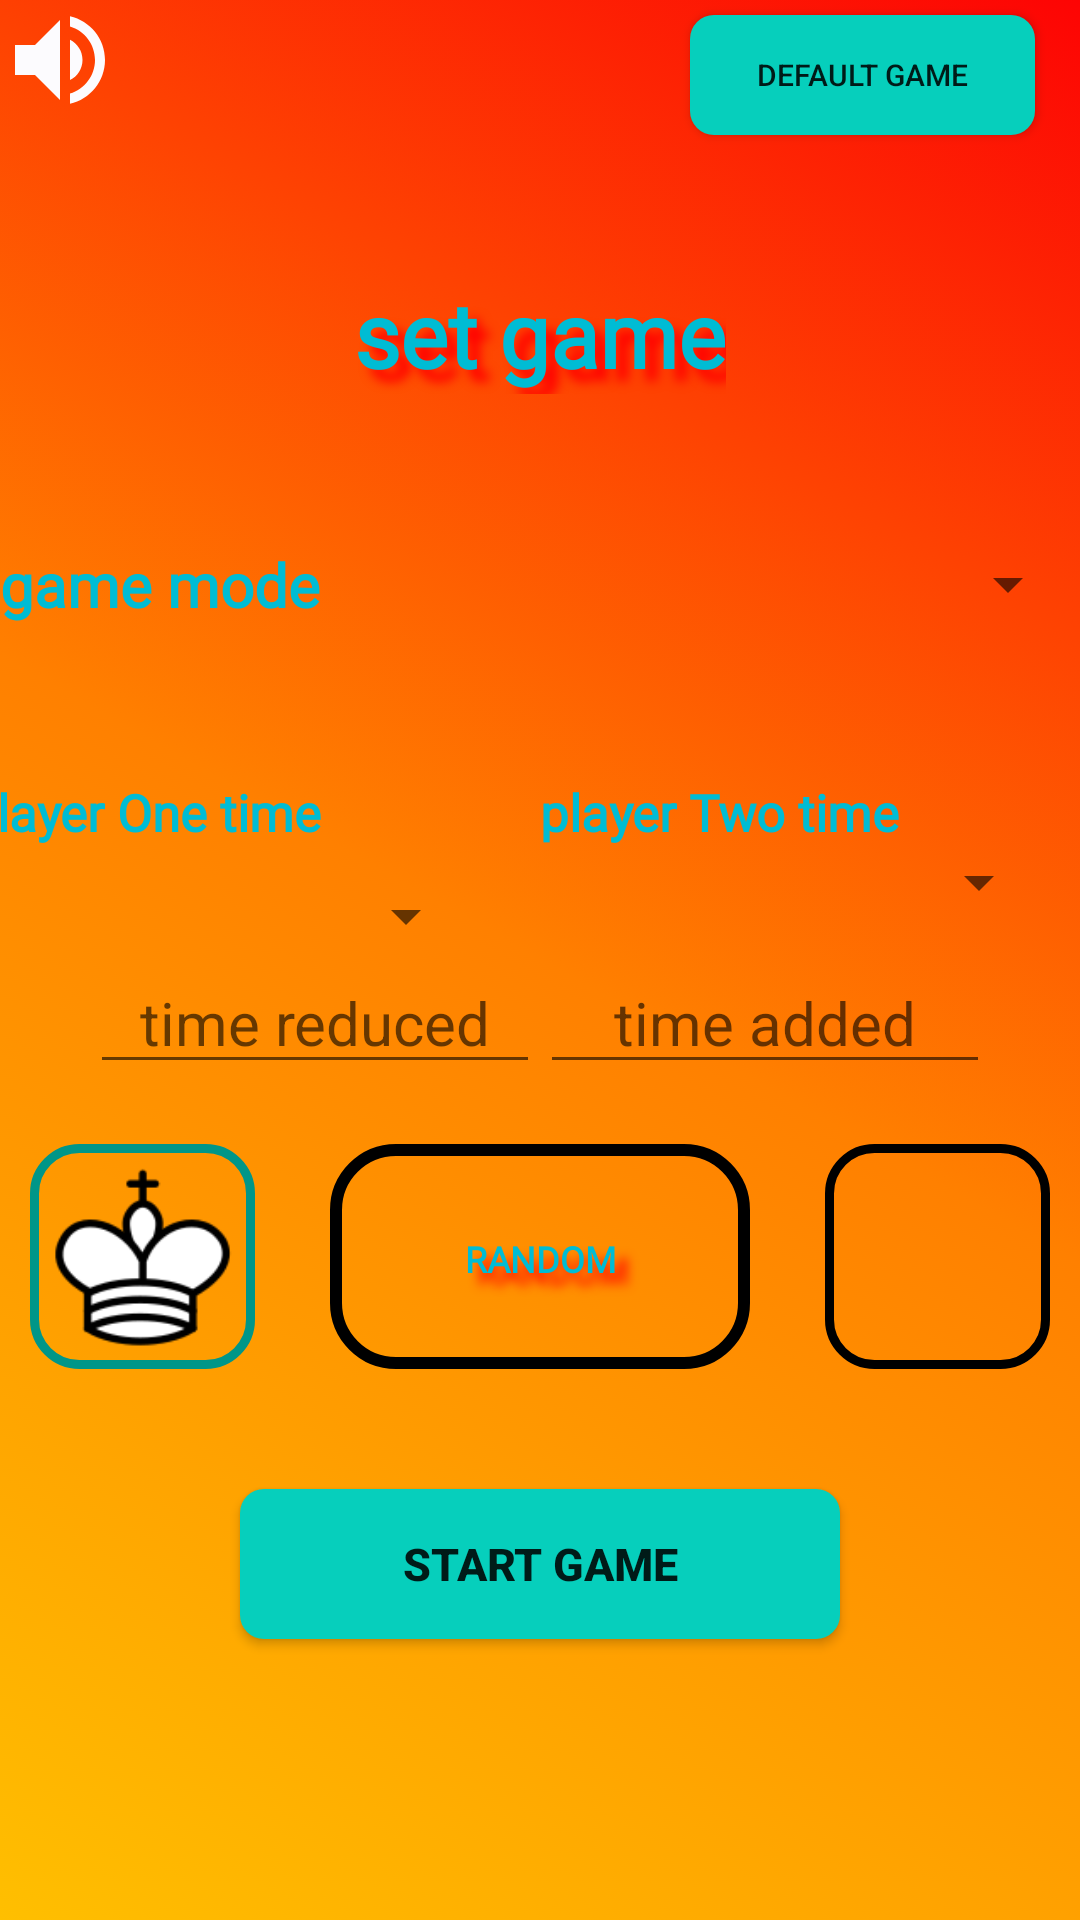

Icon click points for this 1080px x 1920px phone screenshot, format [x,y]:
volume up: [60,60]
